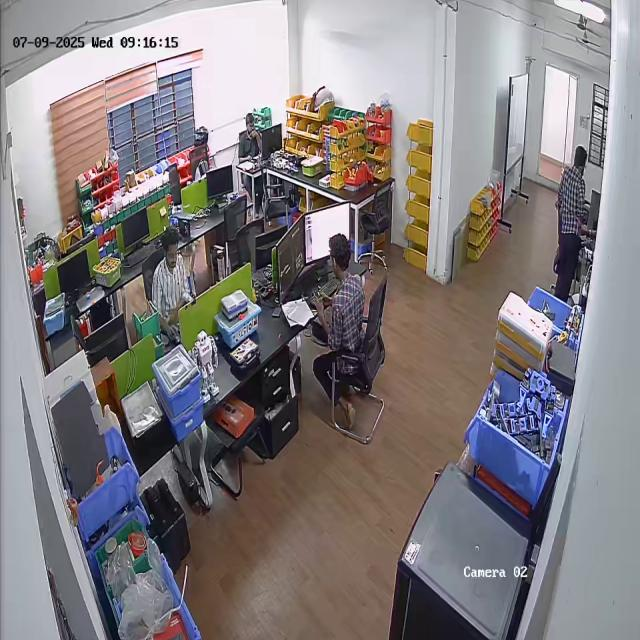person: (298, 231, 371, 354), (549, 141, 594, 295), (149, 227, 194, 315), (237, 112, 263, 158)
